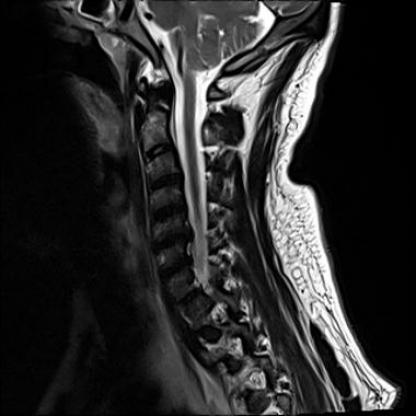Disc Herniationrotation: (146, 172, 185, 189), (147, 203, 188, 219), (150, 234, 189, 249), (157, 264, 192, 279)
Osteophytesrotation: (146, 172, 185, 189), (147, 203, 188, 219), (150, 234, 189, 249), (157, 264, 192, 279)
